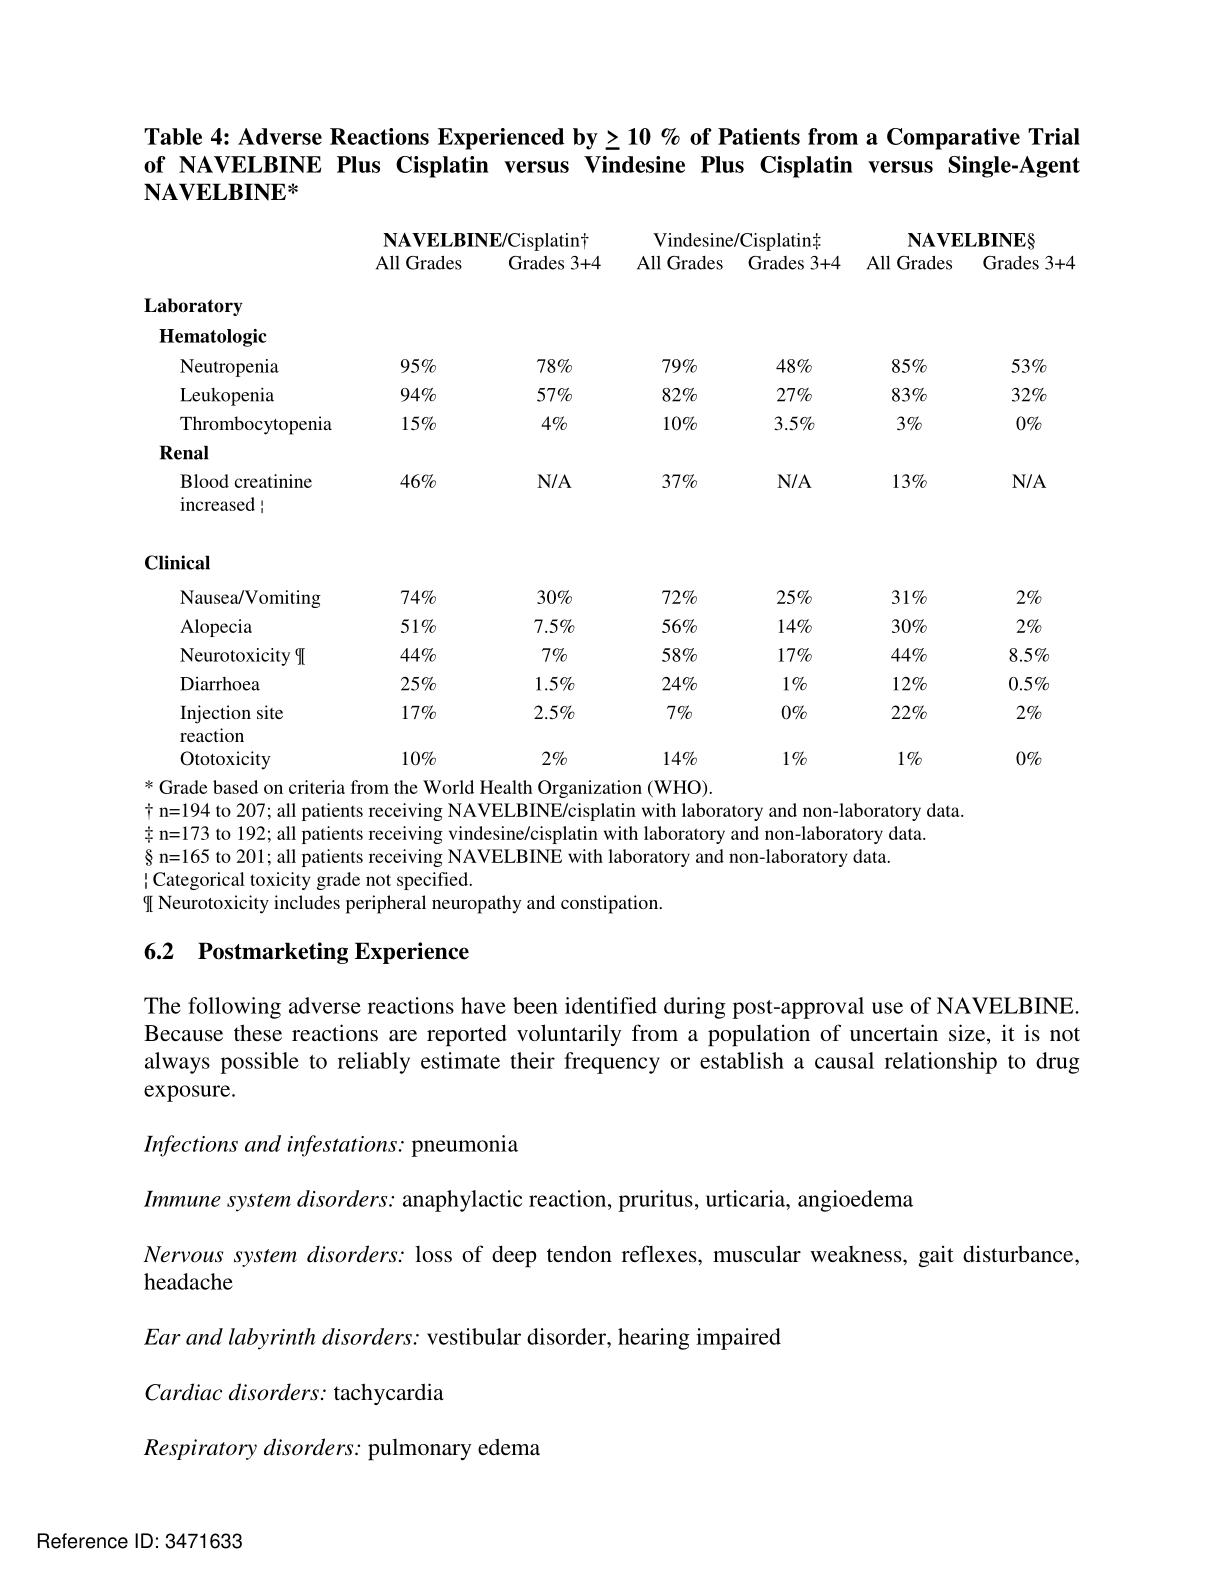nolines: (141, 228, 1079, 770)
